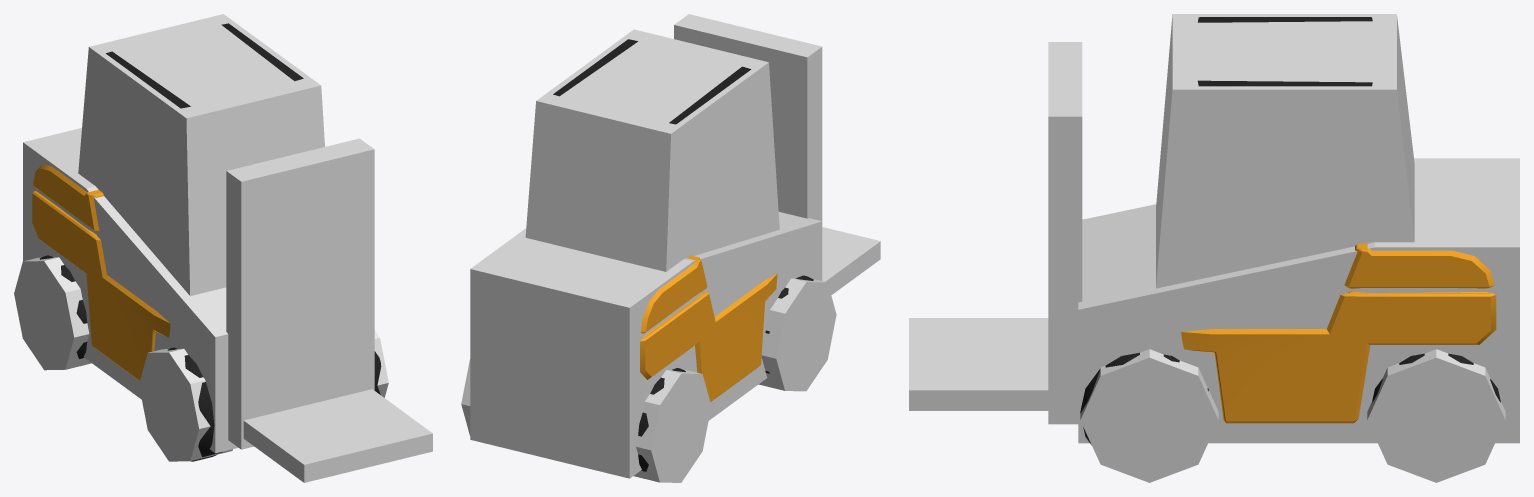
Rendered from Forklift.fbx.
3 views of the same model, side by side, from view 1: azimuth 30°, elevation 25°; view 2: azimuth 150°, elevation 25°; view 3: azimuth 270°, elevation 25° (orthographic). The views are drawn at different scales.
Visible parts, largest first — view 1: Cube.002, Forklift; view 2: Cube.002, Forklift; view 3: Cube.002, Forklift.
Boxes of the visible parts, x1,y1,x2,y2 form: Cube.002: (14, 14, 432, 482); Forklift: (32, 23, 381, 461); Cube.002: (461, 14, 880, 482); Forklift: (553, 39, 813, 471); Cube.002: (909, 14, 1519, 482); Forklift: (1080, 17, 1500, 445).
Bounding box in the file's own units: 118 × 196 × 287.
